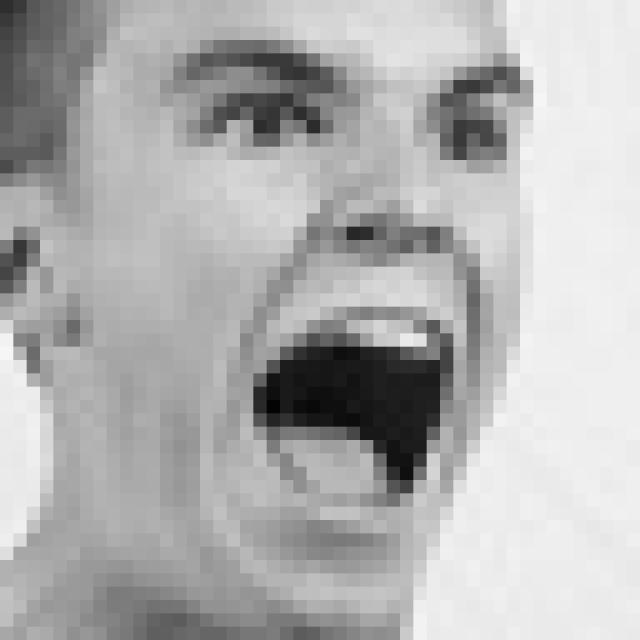angry: (144, 29, 530, 552)
